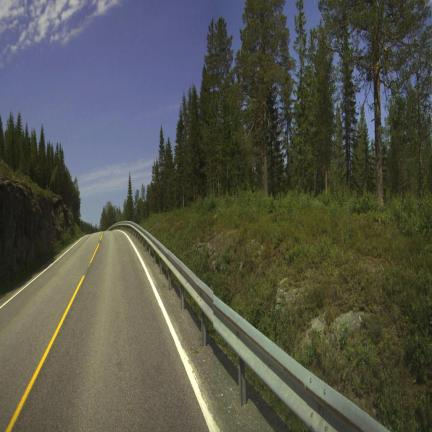Road: (0, 231, 208, 430)
